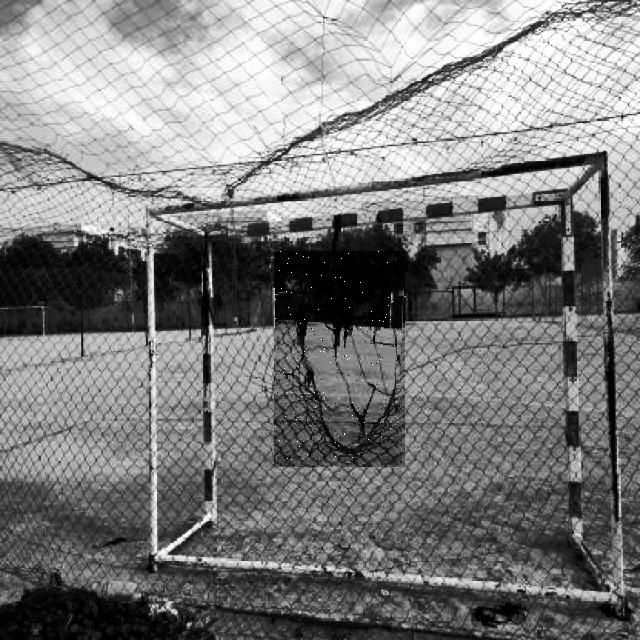anomaly-fence: (274, 251, 405, 467)
